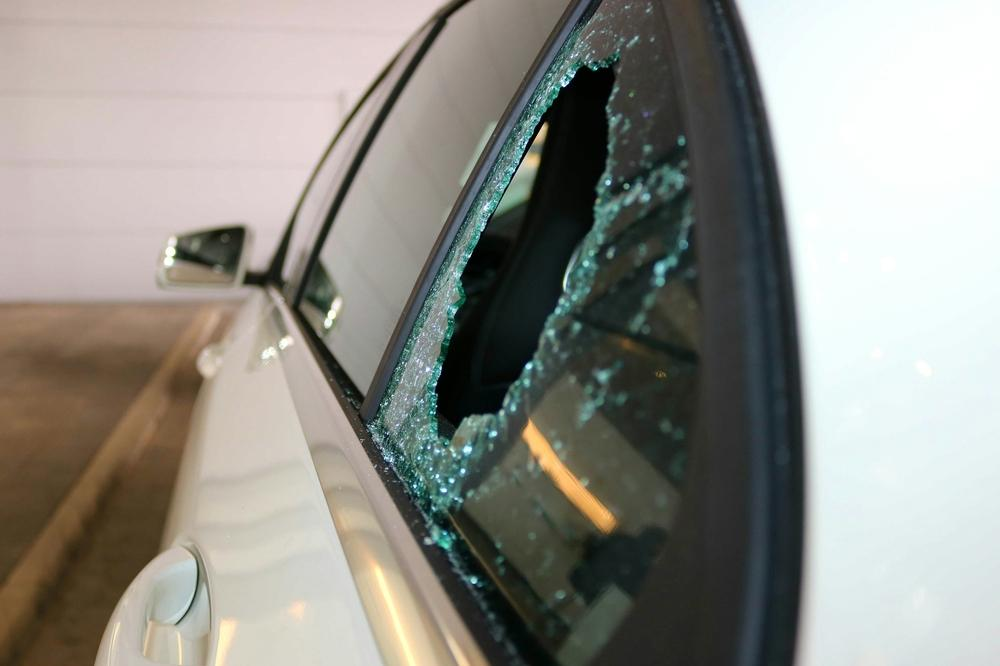glass shatter: (372, 0, 705, 664)
